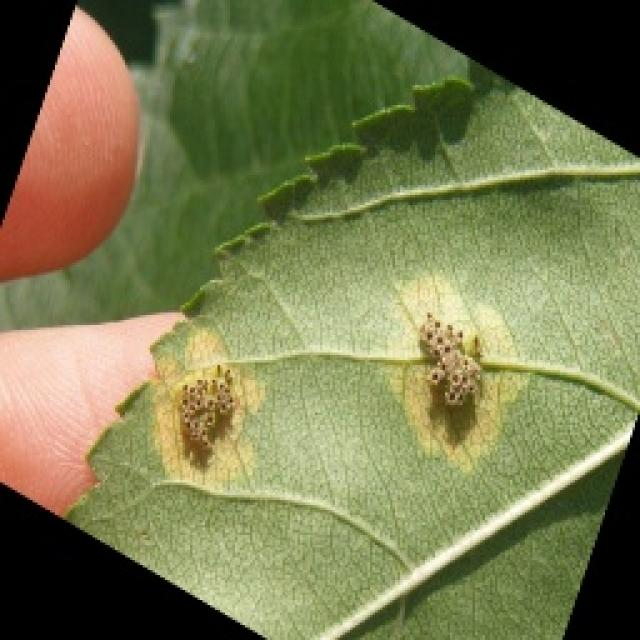Black_knot: (415, 310, 483, 410)
Gymnosporangium_Rusts: (60, 68, 638, 638)
